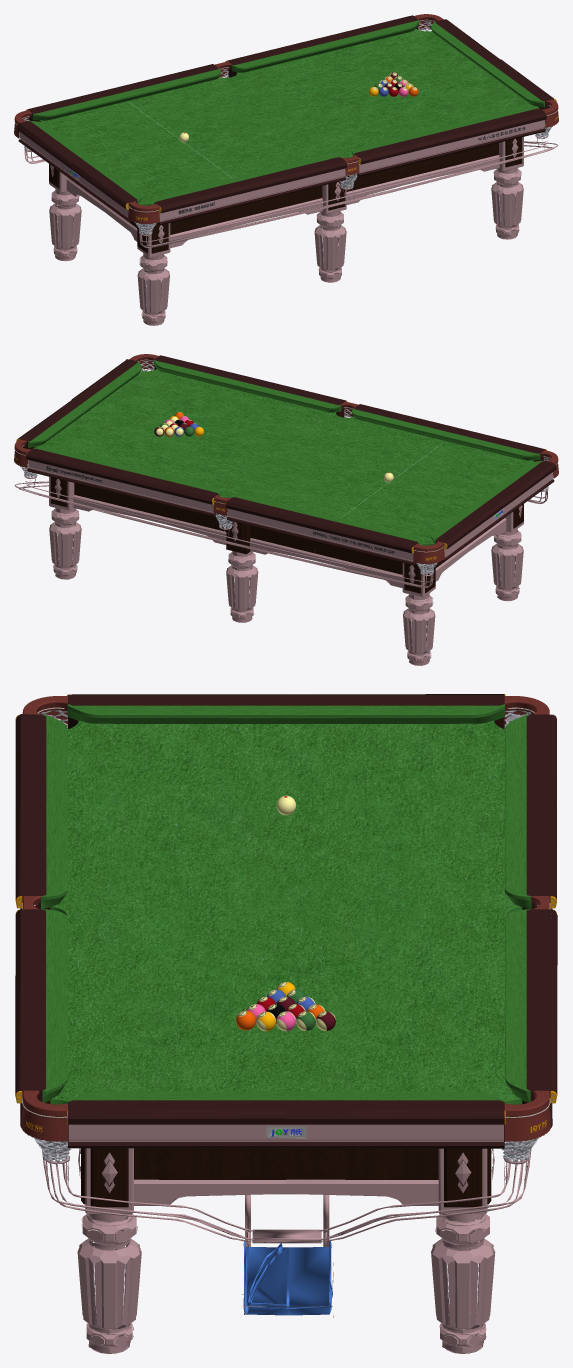
Rendered from billiards.glb.
The picture shows the model from 3 angles, top to bottom: view 1: azimuth 30°, elevation 25°; view 2: azimuth 150°, elevation 25°; view 3: azimuth 270°, elevation 25°; orthographic projection. The views are drawn at different scales.
Visible parts, largest first — view 1: TableSurface, Table.004, Table.008, Table.010, Table.013, Table.003; view 2: TableSurface, Table.004, Table.008, Table.010, Table.013, Table.003, Table.005; view 3: TableSurface, Table.008, Table.004, Table.010, Table.013, Table.014, Table.001, Table.003.
Part boxes in pixels (x1,y1,x2,y2): TableSurface: [29, 19, 544, 205]; Table.004: [20, 70, 557, 325]; Table.008: [16, 15, 553, 225]; Table.010: [33, 27, 543, 253]; Table.013: [14, 14, 558, 224]; Table.003: [19, 21, 552, 235]; TableSurface: [28, 359, 543, 545]; Table.004: [14, 409, 553, 665]; Table.008: [17, 355, 556, 565]; Table.010: [29, 365, 539, 593]; Table.013: [14, 354, 558, 564]; Table.003: [20, 361, 553, 574]; Table.005: [46, 466, 394, 553]; TableSurface: [41, 704, 531, 1104]; Table.008: [15, 694, 557, 1148]; Table.004: [42, 1124, 531, 1353]; Table.010: [44, 718, 528, 1207]; Table.013: [21, 696, 551, 1141]; Table.014: [243, 1241, 332, 1315]; Table.001: [246, 1243, 286, 1307]; Table.003: [33, 710, 538, 1162].
Bounding box in the file's own units: 2.87 × 0.8812 × 1.56.
Materials: 16 (3 with a texture image).
